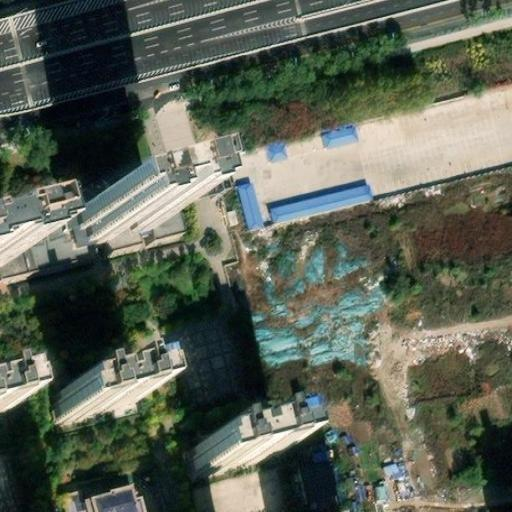building: (0, 189, 183, 284), (184, 432, 276, 482), (64, 195, 154, 246), (52, 378, 142, 426), (271, 185, 370, 222), (268, 125, 355, 161), (295, 458, 342, 510), (88, 485, 146, 512), (240, 182, 262, 231), (372, 479, 391, 505)
